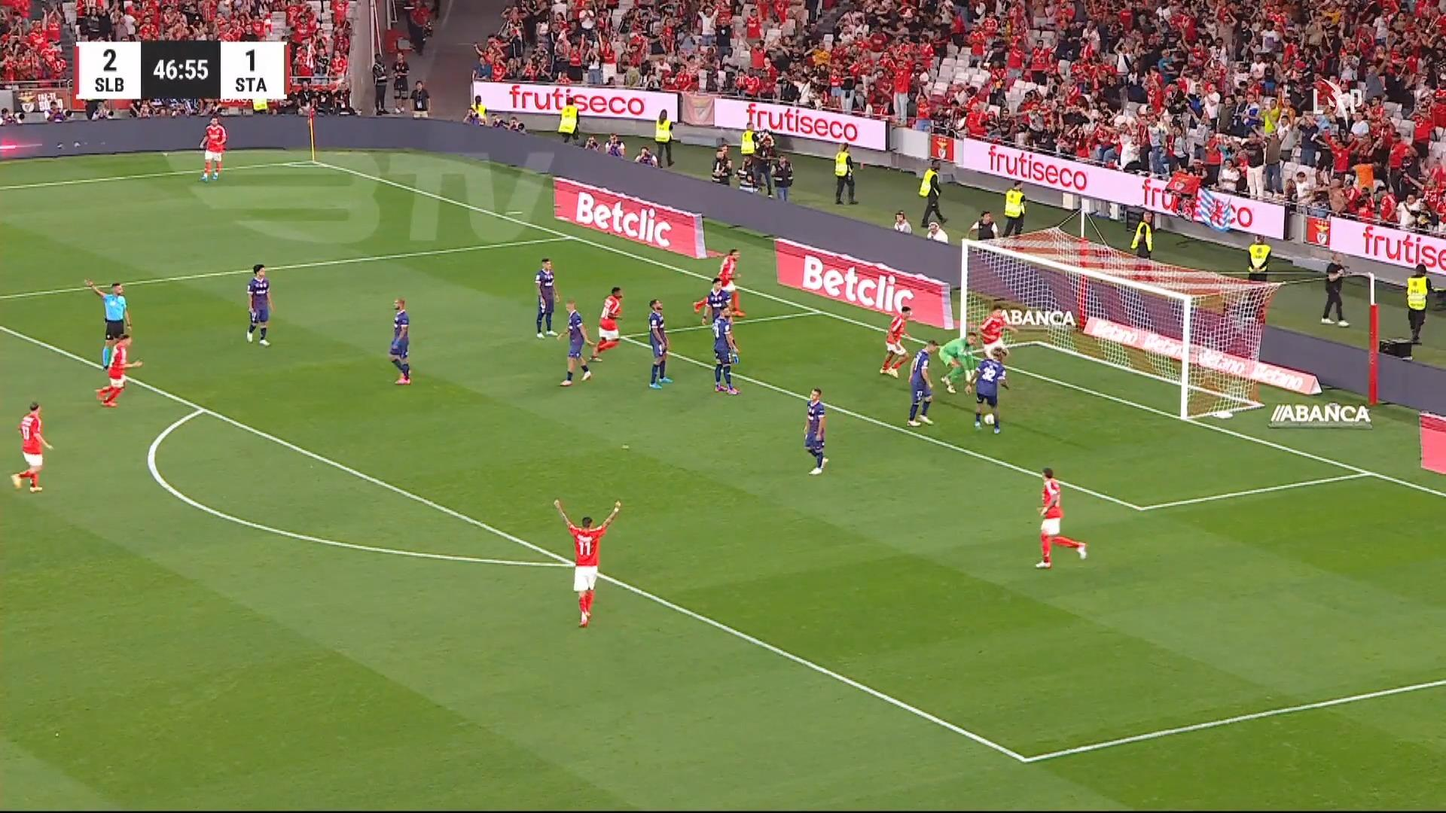ball: (983, 413, 994, 425)
goalkeeper: (938, 330, 978, 394)
player: (552, 497, 621, 628), (1033, 466, 1087, 568), (964, 343, 1009, 434), (10, 401, 53, 492), (95, 333, 143, 406), (557, 298, 593, 386), (906, 338, 939, 426), (588, 286, 624, 362), (710, 306, 741, 394), (879, 304, 913, 377), (245, 263, 274, 346), (646, 298, 671, 389), (802, 387, 828, 474), (533, 257, 560, 338), (715, 247, 746, 316), (976, 303, 1011, 363), (692, 277, 734, 326), (388, 297, 411, 384), (199, 116, 227, 181)
referee: (84, 276, 132, 372)
